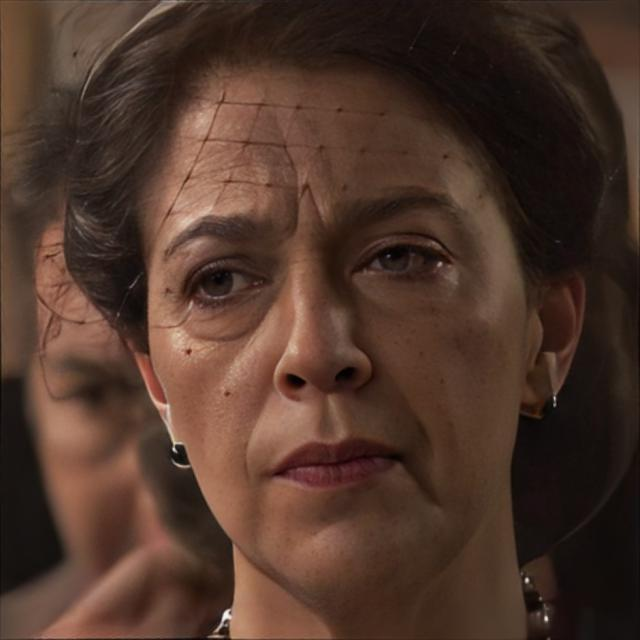anger: (142, 41, 533, 595)
